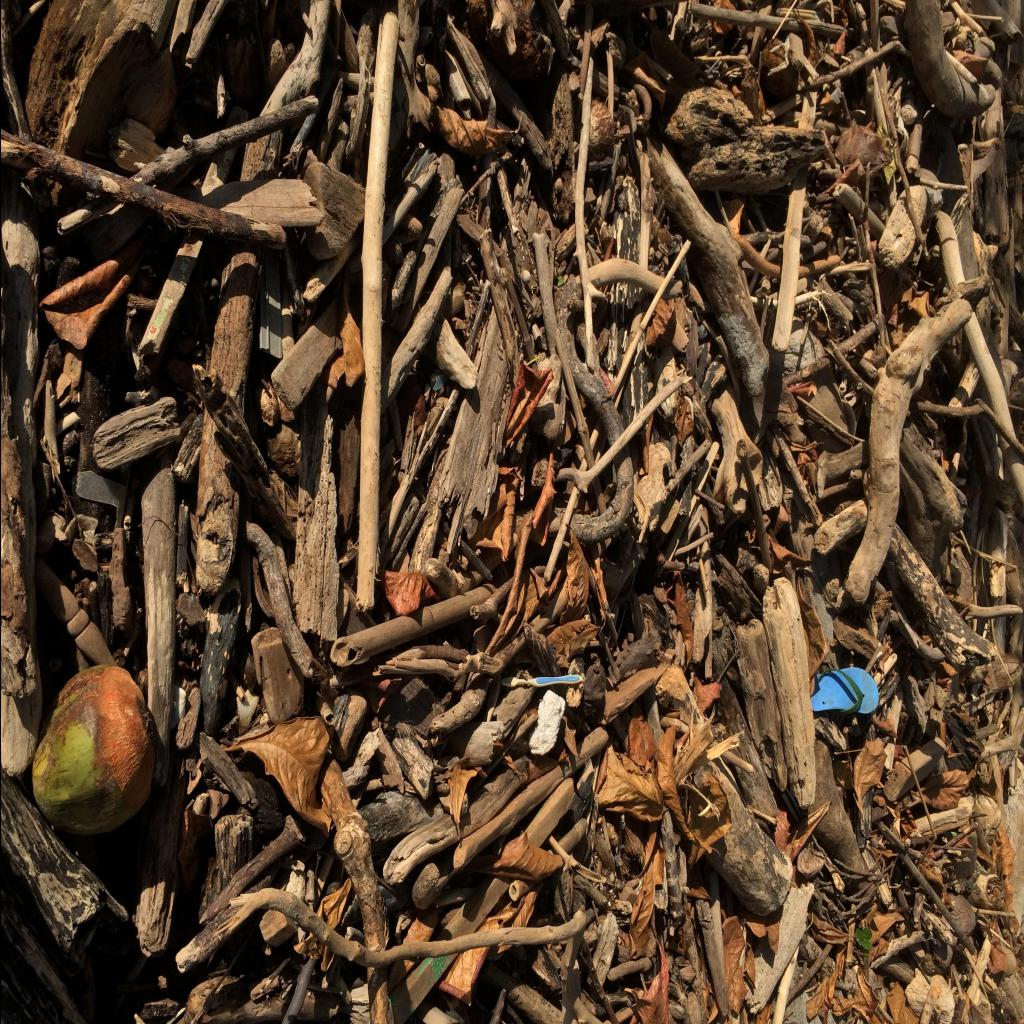Other plastic bottle: (810, 667, 878, 715), (500, 675, 582, 687)
Styrofoam piece: (528, 690, 564, 755)
